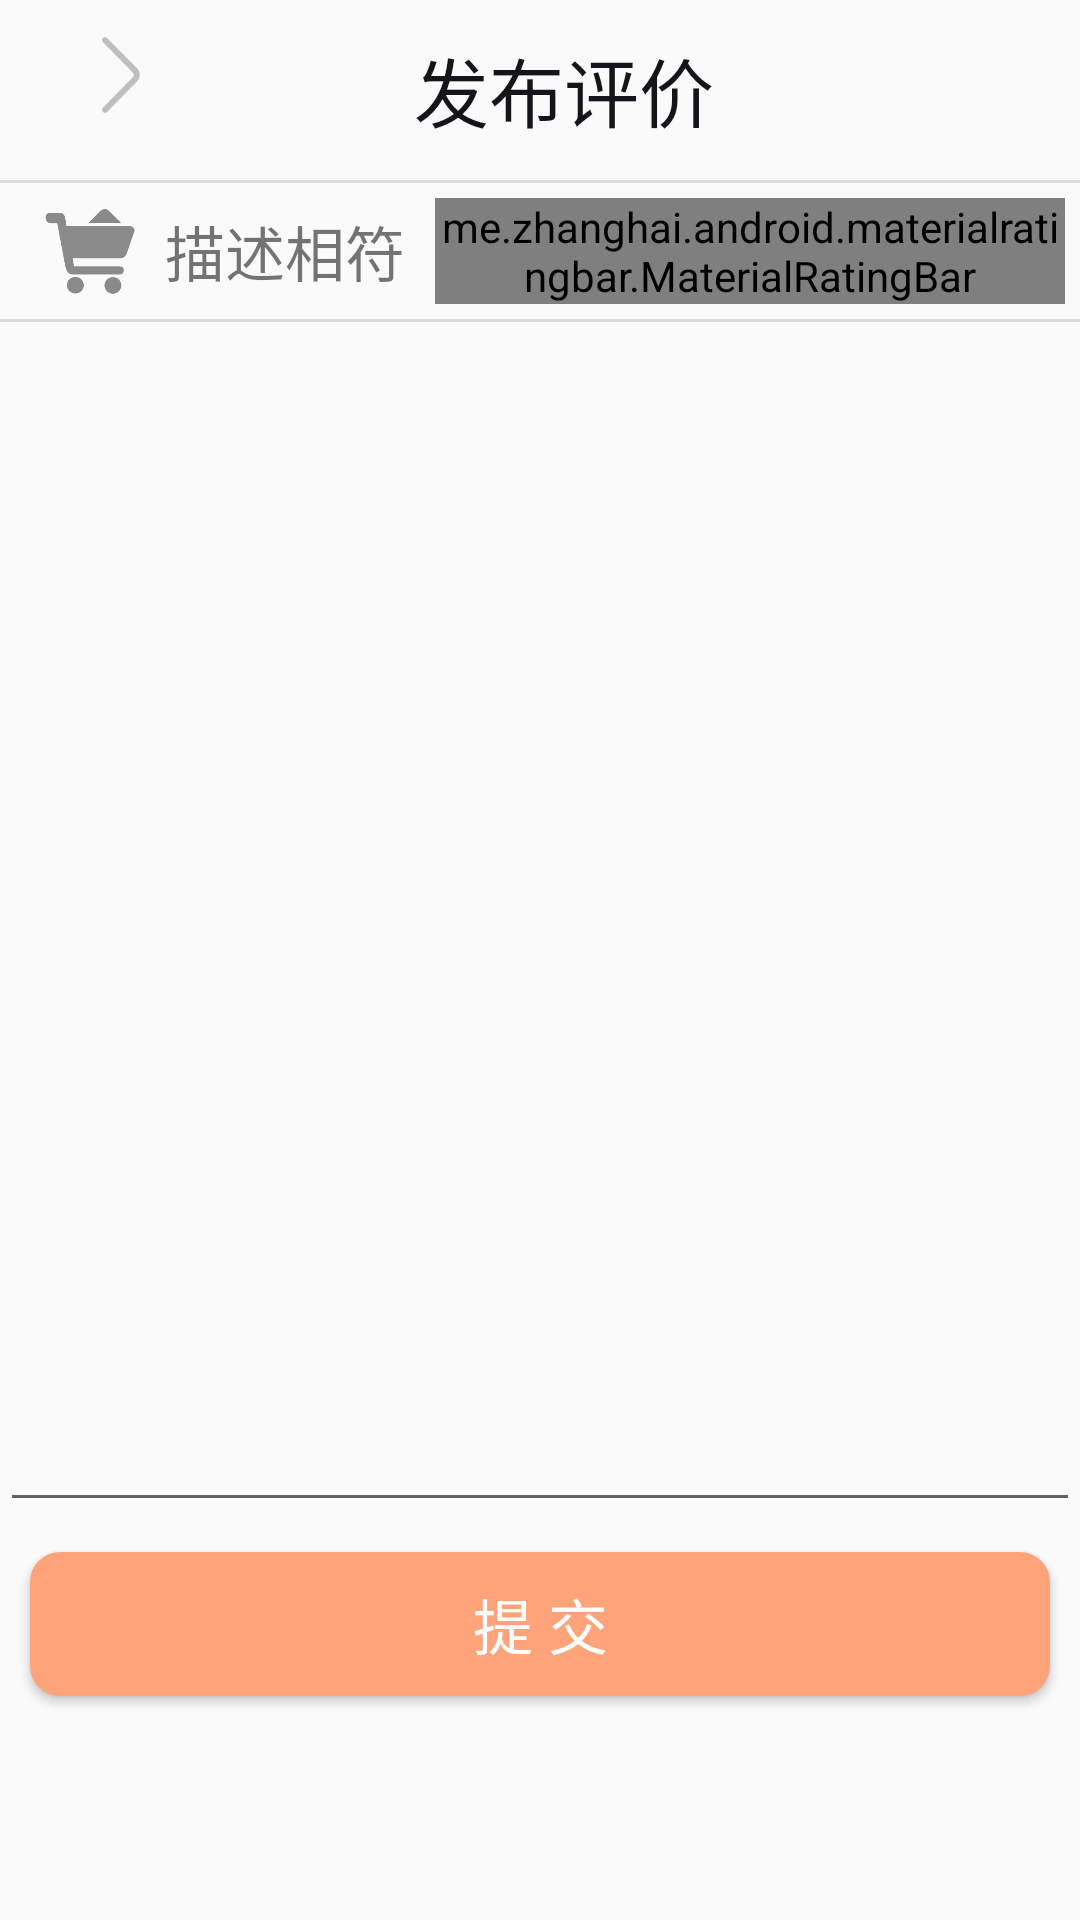

Locate icon controls on the screen. Image size 1080px x 1920px, boxes as bbox=[x1, y1, x2, y2].
right: bbox=[102, 37, 140, 113]
shopping car: bbox=[45, 209, 135, 294]
